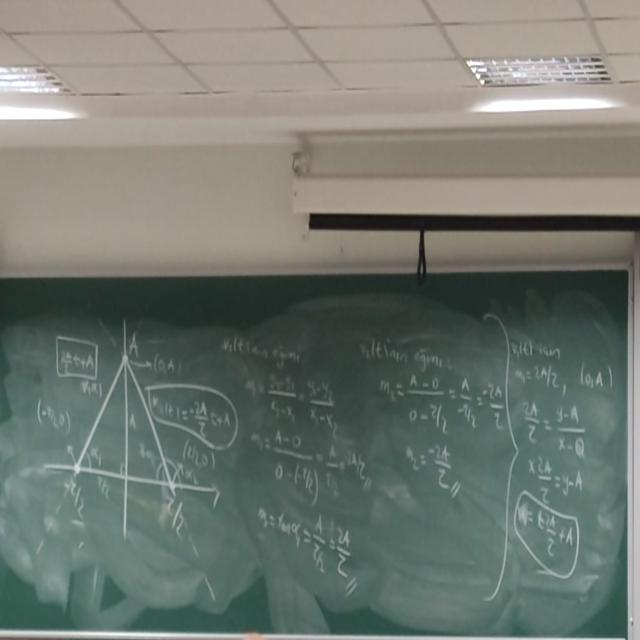image: (34, 308, 227, 549)
math: (252, 495, 366, 581), (373, 369, 507, 438), (253, 430, 369, 489), (512, 333, 614, 399), (398, 430, 471, 506), (518, 393, 588, 469), (242, 371, 339, 419), (518, 496, 575, 577), (524, 452, 590, 503)
